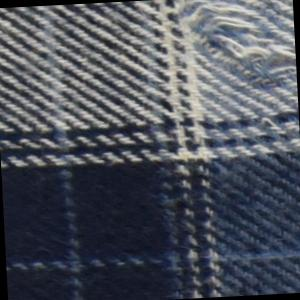Damage: (172, 1, 298, 102)
